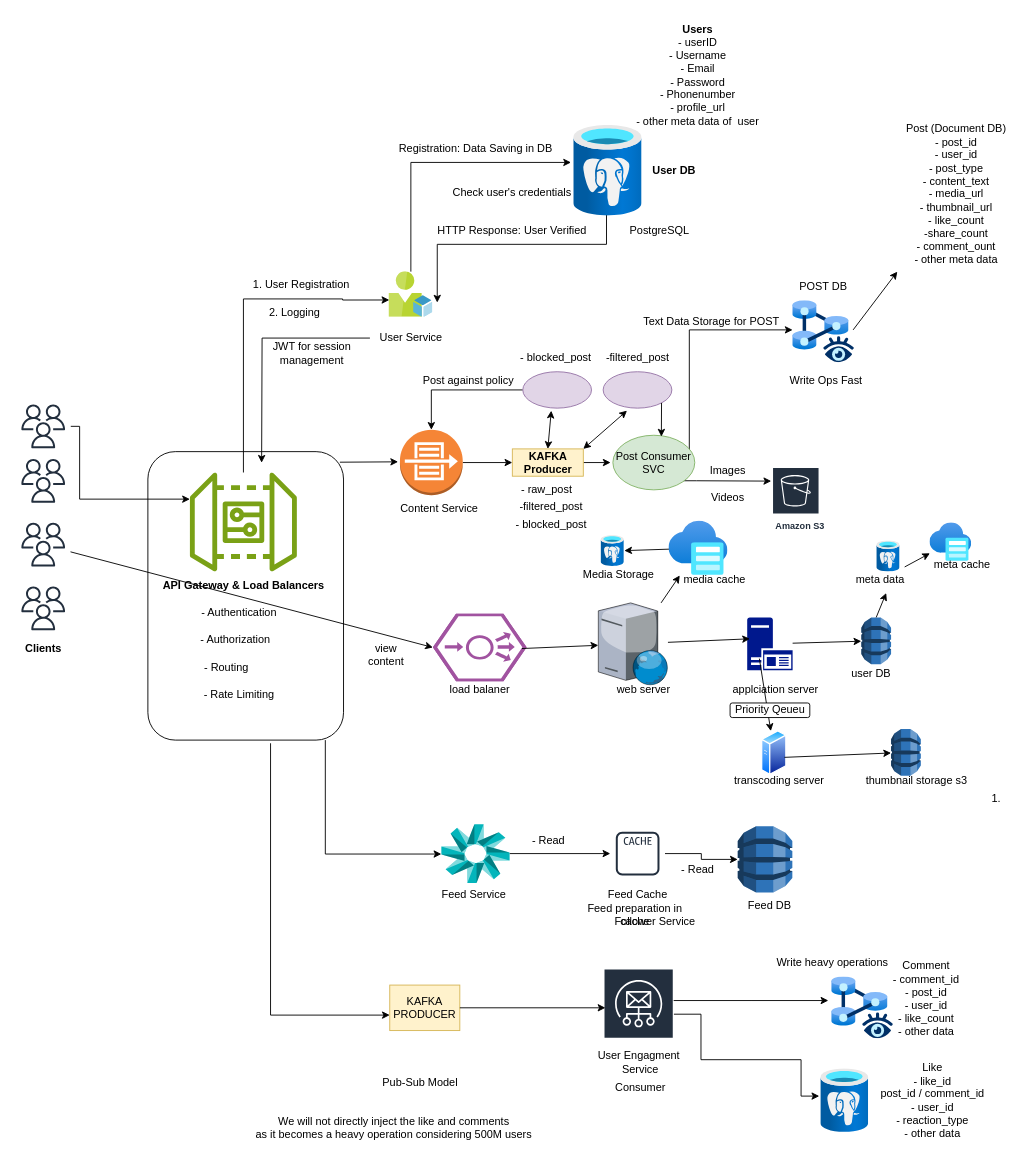
Some shapes in this 1031 by 1161 pixel diagram are drawn without their labels. Each missing label, with the centre of its shape:
Moderator SVC: the point at 637,389
Notification SVC: the point at 557,389
